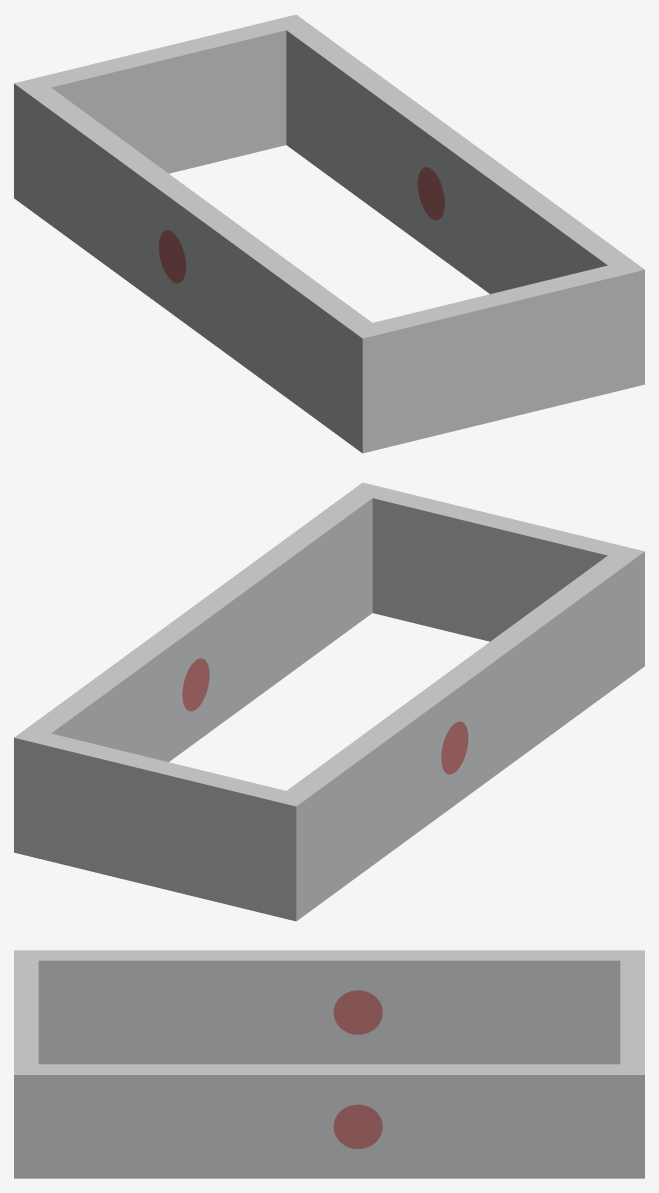
Rendered from step_03.glb.
3 renders of one model, top to bottom at view 1: azimuth 30°, elevation 25°; view 2: azimuth 150°, elevation 25°; view 3: azimuth 270°, elevation 25°, orthographic. The views are drawn at different scales.
Parts seen in each view (by area): view 1: part__dispensing chute, removed__dispensing chute; view 2: part__dispensing chute, removed__dispensing chute; view 3: part__dispensing chute, removed__dispensing chute.
Boxes of the visible parts, box(x1,y1,x2,y2) form: part__dispensing chute: box(14, 14, 644, 453); removed__dispensing chute: box(159, 167, 444, 283); part__dispensing chute: box(14, 482, 644, 921); removed__dispensing chute: box(182, 658, 468, 774); part__dispensing chute: box(14, 950, 644, 1178); removed__dispensing chute: box(333, 990, 382, 1148).
Size of the model in its own units: 18 by 7 by 38.5.
